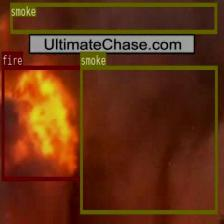fire: (1, 65, 82, 180)
smoke: (80, 65, 217, 214), (10, 2, 216, 33)
